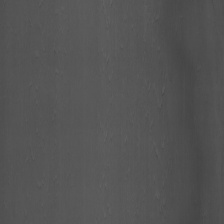silk_spot: (139, 72, 177, 127), (142, 138, 176, 194), (93, 14, 126, 68)
